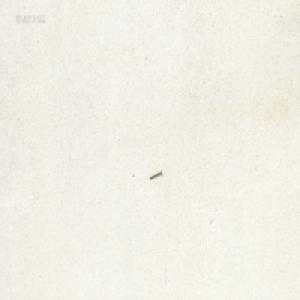Bolt: (148, 169, 162, 180)
